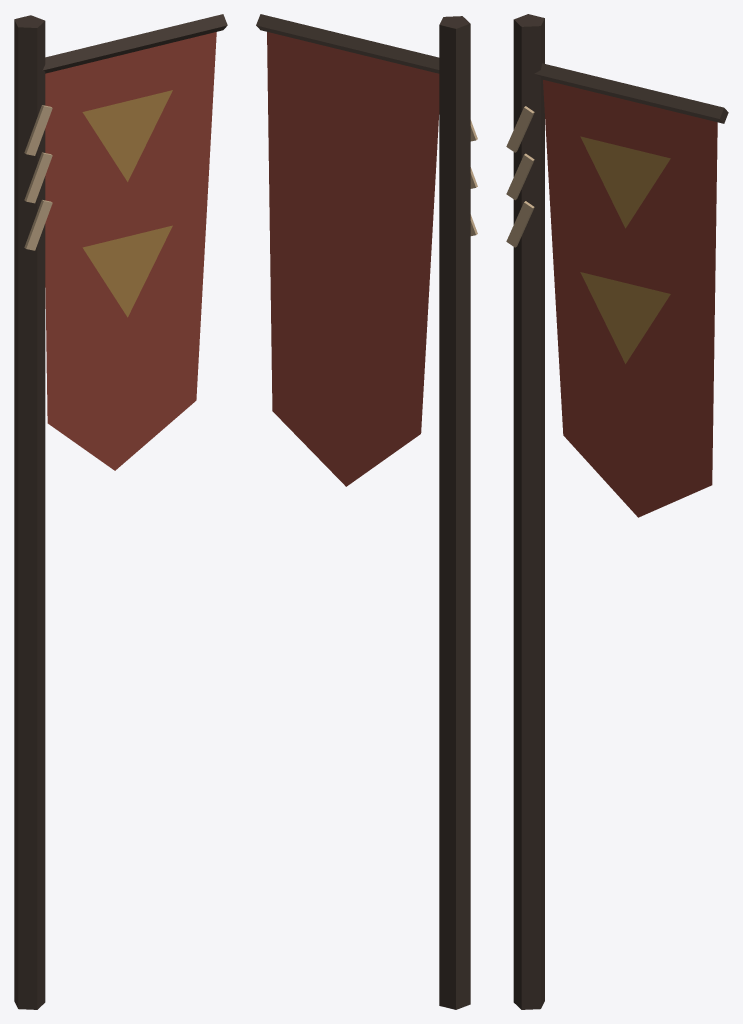
Rendered from banner_pole.glb.
The picture shows the model from 3 angles, left to right: view 1: azimuth 30°, elevation 25°; view 2: azimuth 150°, elevation 25°; view 3: azimuth 330°, elevation 25°; orthographic projection.
Visible parts, largest first — view 1: red banner, banner pole, banner triangle.001, banner triangle, banner arm, pole feather.001, pole feather, pole feather.002; view 2: red banner, banner pole, banner arm; view 3: red banner, banner pole, banner triangle, banner triangle.001, banner arm, pole feather.001, pole feather.002, pole feather.
Boxes of the visible parts, x1,y1,x2,y2 form: red banner: [45, 32, 216, 470]; banner pole: [14, 15, 45, 1009]; banner triangle.001: [82, 225, 172, 317]; banner triangle: [82, 90, 172, 181]; banner arm: [42, 14, 227, 73]; pole feather.001: [24, 152, 52, 203]; pole feather: [24, 105, 52, 155]; pole feather.002: [24, 200, 52, 250]; red banner: [267, 32, 439, 486]; banner pole: [439, 16, 470, 1009]; banner arm: [256, 14, 439, 73]; red banner: [543, 80, 717, 517]; banner pole: [513, 14, 544, 1009]; banner triangle: [580, 136, 670, 228]; banner triangle.001: [580, 272, 670, 363]; banner arm: [534, 63, 728, 123]; pole feather.001: [506, 153, 534, 200]; pole feather.002: [506, 201, 534, 247]; pole feather: [506, 106, 534, 152].
Bounding box in the file's own units: 0.3209 × 1.45 × 0.0575.
